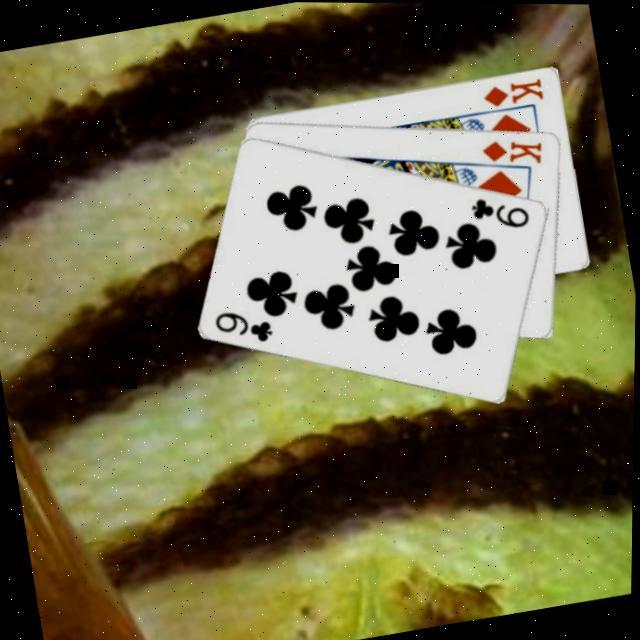9C: (466, 184, 536, 237), (211, 299, 280, 351)
KD: (478, 126, 550, 173), (478, 72, 548, 109)
